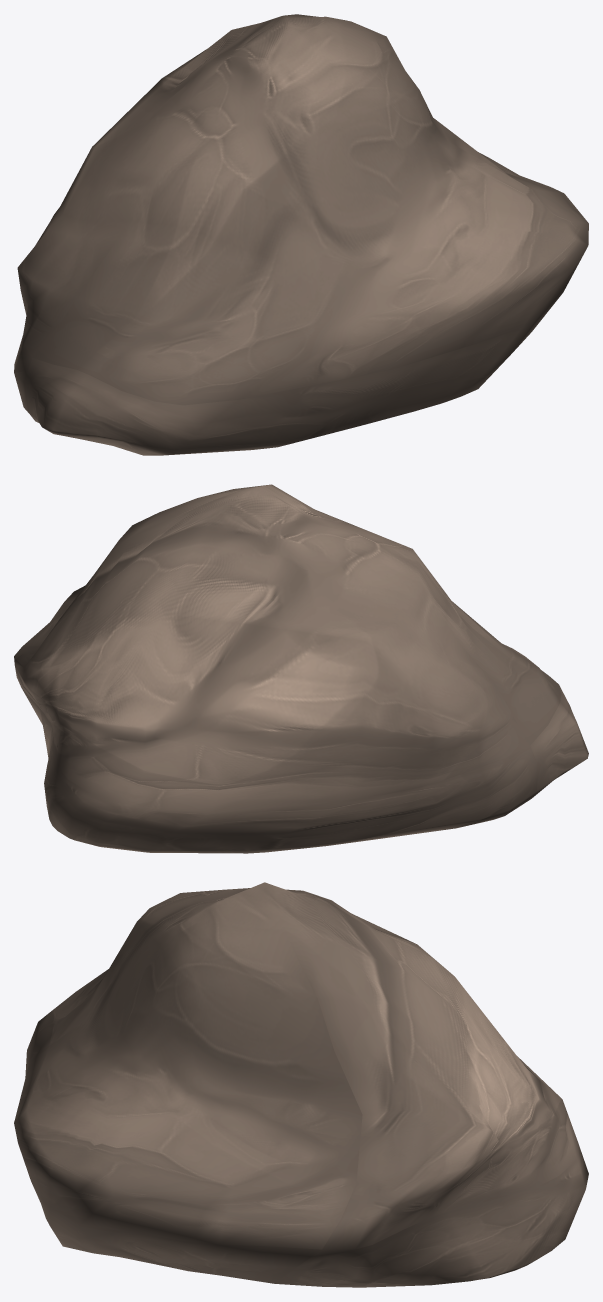
3 renders of one model, top to bottom at view 1: azimuth 30°, elevation 25°; view 2: azimuth 150°, elevation 25°; view 3: azimuth 270°, elevation 25°, orthographic. The views are drawn at different scales.
Visible parts, largest first — view 1: ZBrush_defualt_group; view 2: ZBrush_defualt_group; view 3: ZBrush_defualt_group.
Part boxes in pixels (x1=…): ZBrush_defualt_group: x1=14, y1=14, x2=588, y2=455; ZBrush_defualt_group: x1=14, y1=484, x2=588, y2=853; ZBrush_defualt_group: x1=14, y1=882, x2=588, y2=1287.
Size of the model in its own units: 2.39 by 1.39 by 2.04.
Materials: 1 (1 with a texture image).
